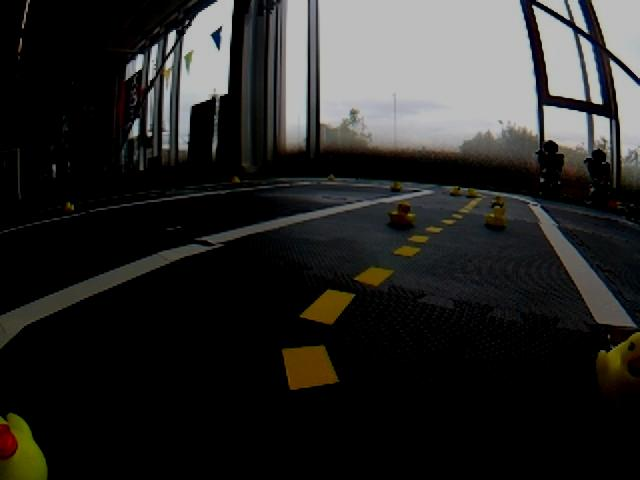Duckies: (593, 335, 639, 411), (1, 411, 47, 480), (389, 202, 415, 225), (484, 208, 509, 226), (467, 188, 481, 197), (492, 195, 504, 205), (449, 186, 462, 195), (64, 201, 74, 211), (231, 175, 241, 183), (391, 183, 402, 190), (329, 175, 336, 180)
